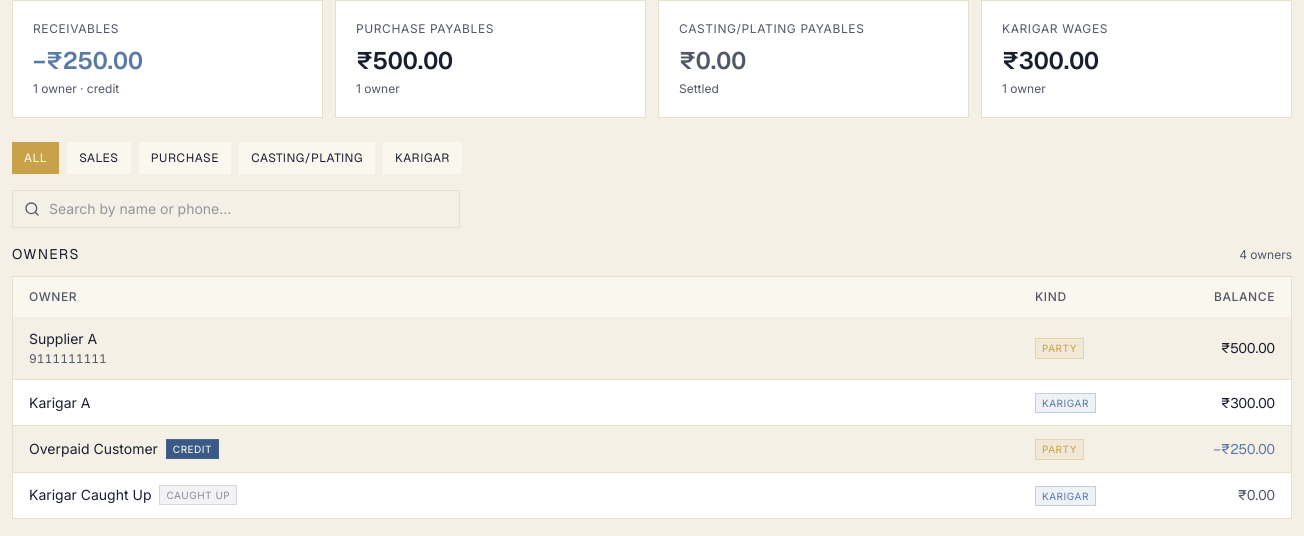
Test: LedgerClient — category tabs (Phase 21c.1.1) › clicking Karigar tab filters to karigar owners (incl. zero-balance)
The image size is (1304, 536).
Click the radio button with test id "ledger-tab" showing "Karigar".
click(422, 158)  # box [383,142,462,174]
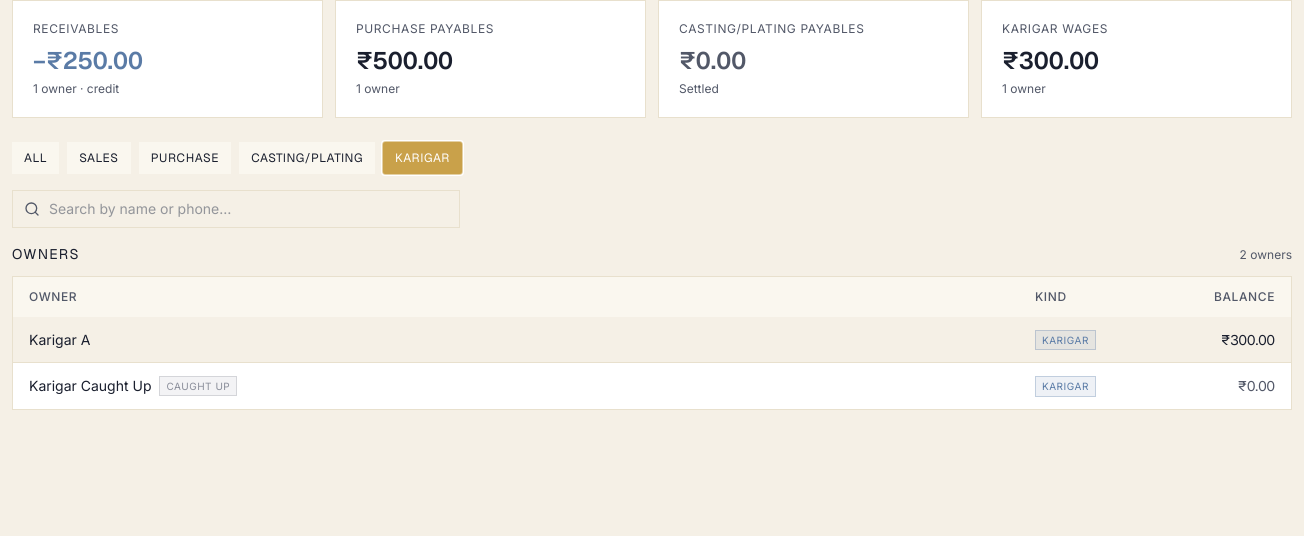
expect the text "Caught up" is shown: met, box [160,376,237,396]
expect the number of rows with test id "ledger-owner-row" is 2: met, box [13,317,1291,363]; [13,363,1291,409]
